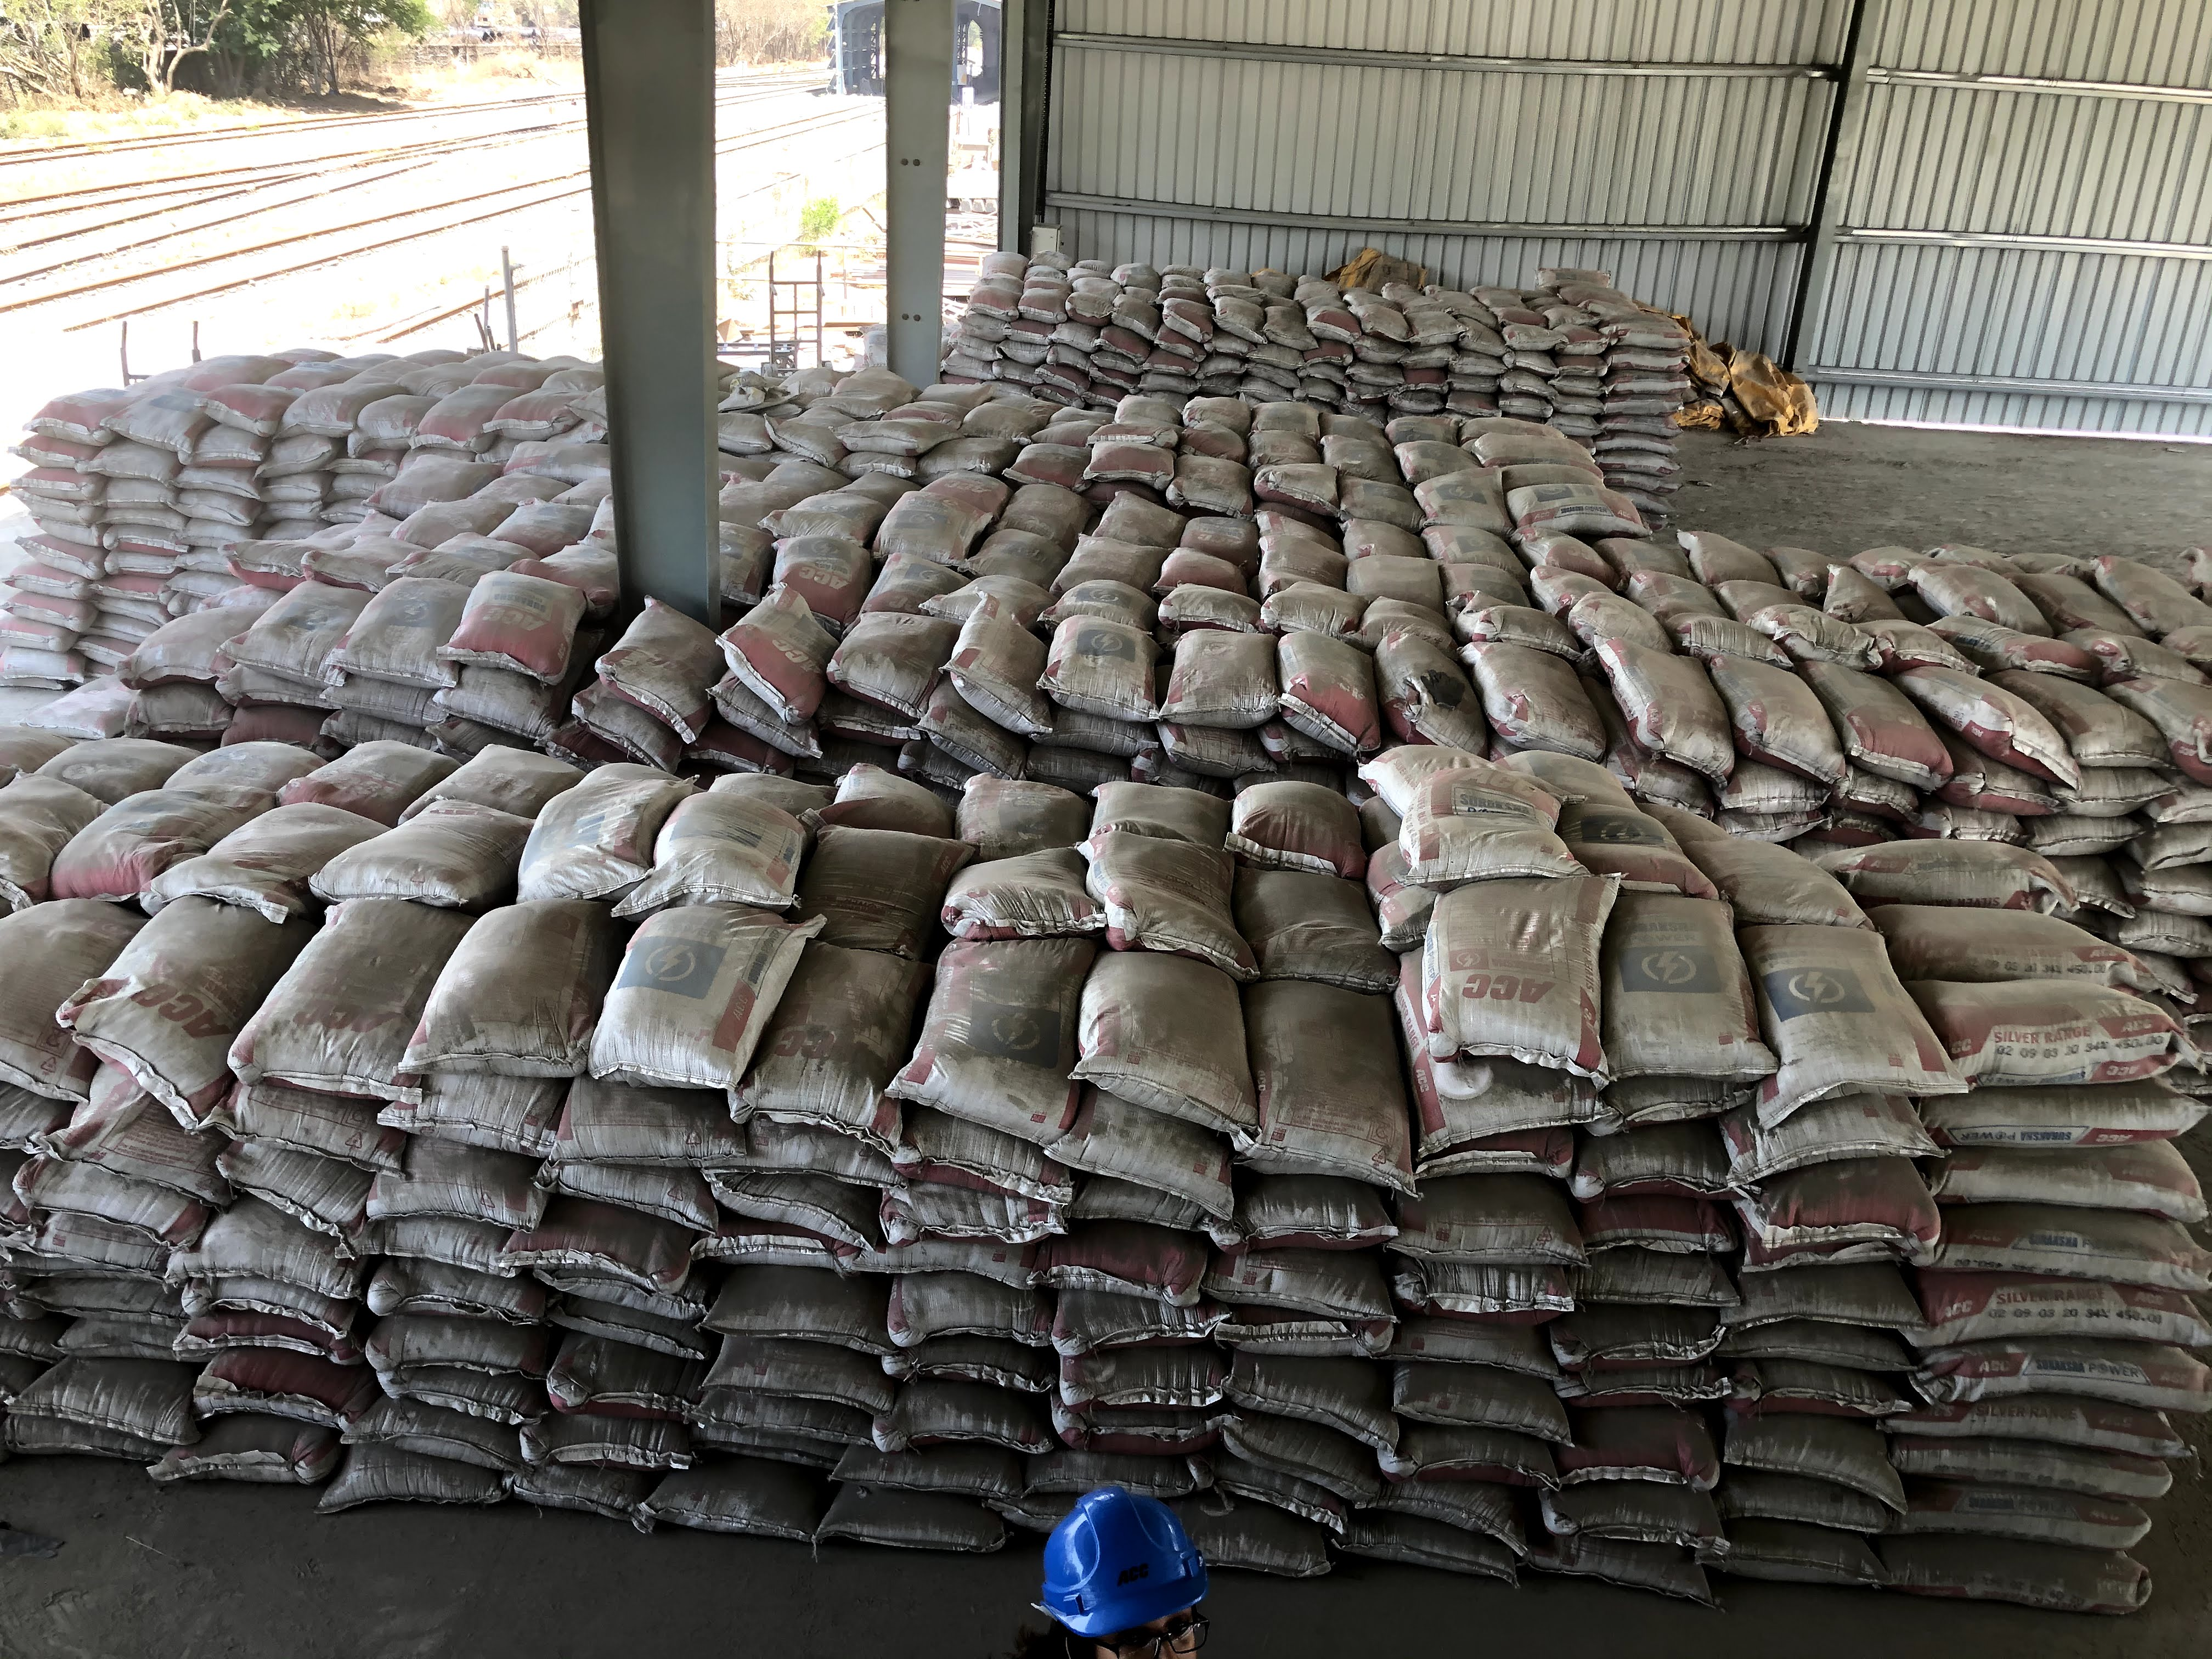cement bag: (1743, 894, 1949, 1091), (1247, 962, 1418, 1166), (1763, 910, 1954, 1089), (1433, 884, 1609, 1051), (1071, 962, 1247, 1127), (637, 908, 784, 1105), (1949, 967, 2179, 1091), (928, 946, 1071, 1127), (308, 894, 423, 1101), (1609, 894, 1743, 1051), (1905, 890, 2179, 967), (1256, 838, 1385, 1000), (21, 889, 141, 1053), (636, 756, 799, 870), (460, 915, 573, 1077), (158, 899, 251, 1080), (1406, 775, 1568, 877), (1686, 779, 1829, 890), (799, 957, 894, 1114), (1094, 819, 1233, 918), (155, 732, 301, 814), (1568, 779, 1686, 877), (948, 843, 1094, 918), (833, 838, 928, 946), (63, 702, 155, 814), (301, 732, 432, 809), (1219, 767, 1353, 838), (1080, 770, 1219, 838), (364, 814, 489, 885), (914, 770, 1080, 823), (432, 746, 559, 809), (221, 814, 334, 880), (564, 742, 622, 850), (843, 751, 914, 823)
